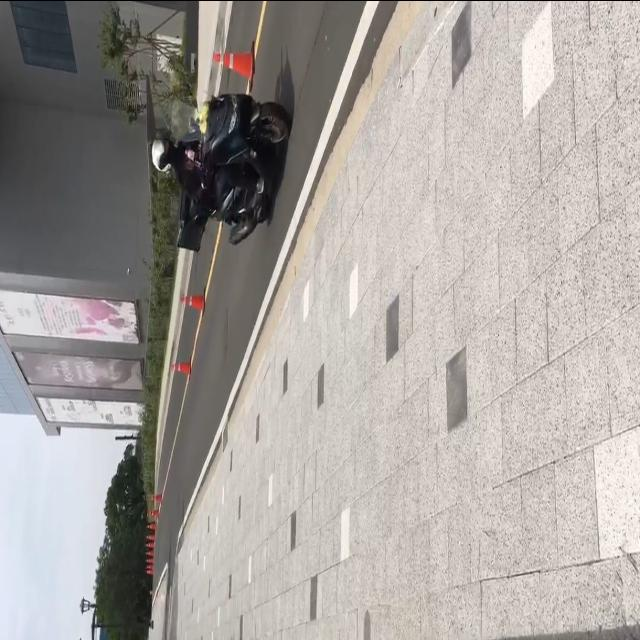obstacle: (145, 79, 302, 264), (208, 32, 258, 91), (177, 287, 211, 320), (170, 350, 201, 385)
road: (150, 0, 426, 595)
sidewalk: (173, 0, 640, 640), (146, 564, 168, 640)
